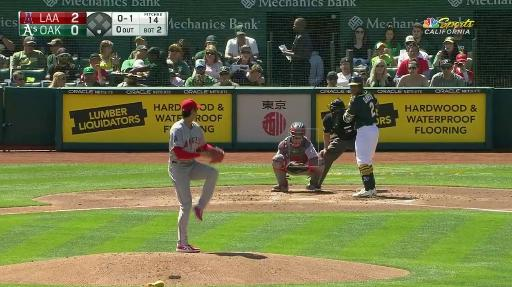pitcher: (167, 99, 226, 254)
